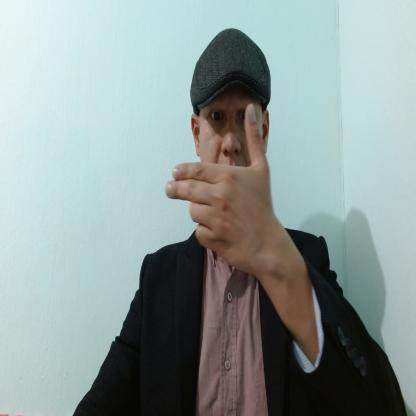H: (164, 104, 271, 271)
